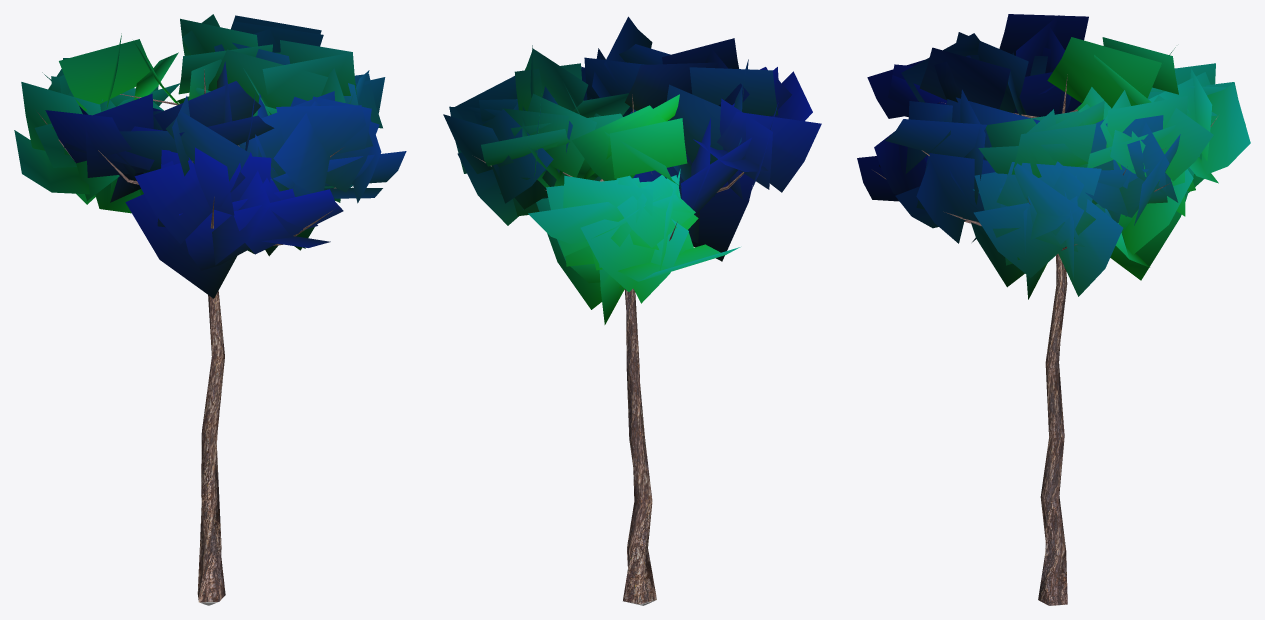
The model's file is Dipterocarpaceae.fbx.
3 renders of one model, left to right at view 1: azimuth 30°, elevation 25°; view 2: azimuth 150°, elevation 25°; view 3: azimuth 270°, elevation 25°, orthographic. The views are drawn at different scales.
Visible parts, largest first — view 1: Tree_2, Tree_0; view 2: Tree_2, Tree_0; view 3: Tree_2, Tree_0.
Part boxes in pixels (bbox=[...]): Tree_2: bbox=[14, 14, 406, 298]; Tree_0: bbox=[37, 69, 343, 602]; Tree_2: bbox=[443, 16, 821, 324]; Tree_0: bbox=[474, 94, 744, 604]; Tree_2: bbox=[857, 14, 1250, 299]; Tree_0: bbox=[873, 74, 1217, 605].
Bounding box in the file's own units: 535 × 835 × 552.
